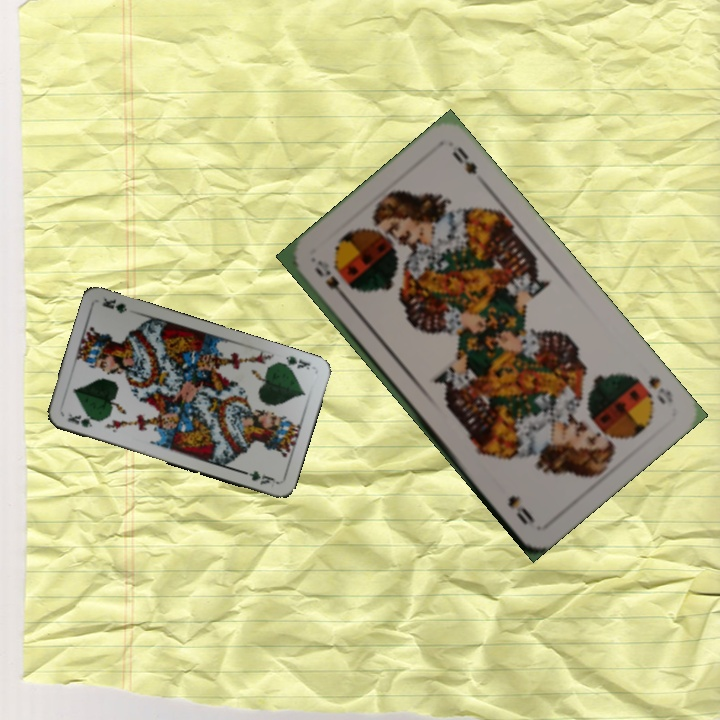GK: (275, 352, 313, 372), (64, 410, 101, 430)
SO: (310, 255, 352, 306), (644, 372, 676, 408)
